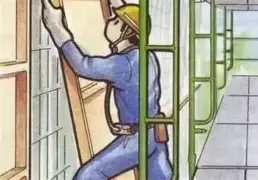safety belt: (108, 55, 160, 136)
